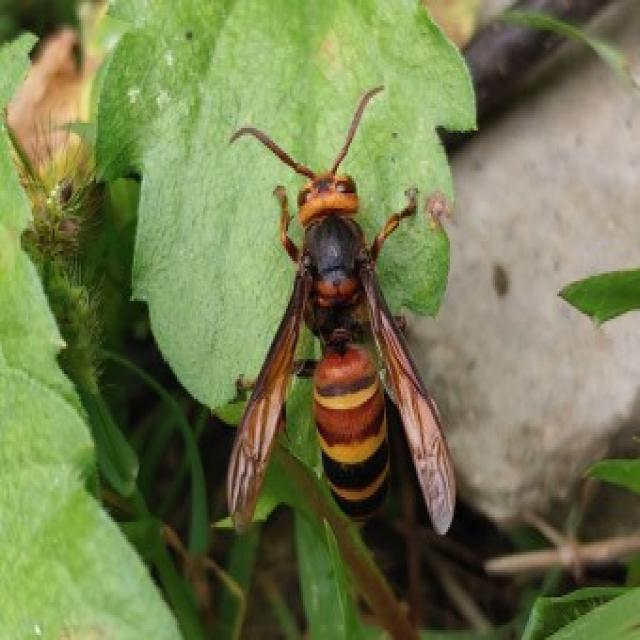Wasp: (266, 162, 460, 540)
